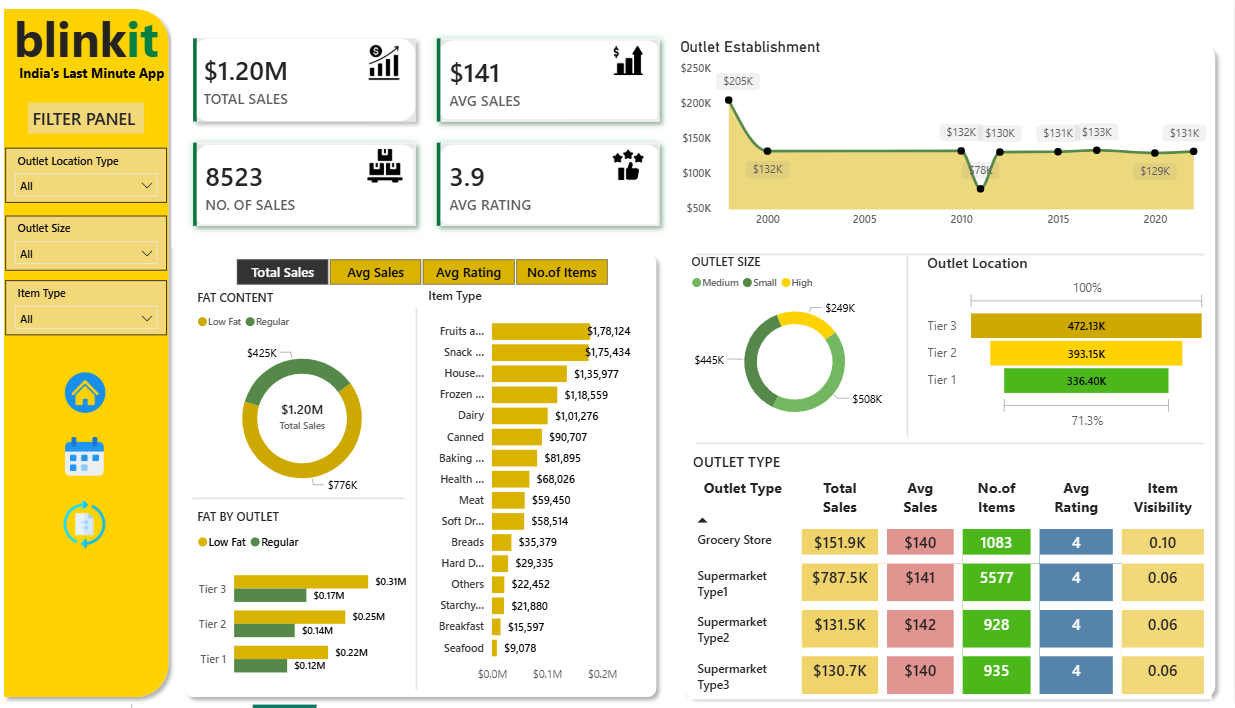

What the dashboard file says about the page in this screenshot:
{"tool":"powerbi","page":{"name":"Blinkit","canvas":[1400,800],"ordinal":0},"visuals":[{"type":"shape","box":[775.3,54.2,612.7,746.4],"z":0},{"type":"shape","box":[14.5,12.7,202.4,788],"z":1000},{"type":"textbox","box":[25.3,12.7,180.7,83.1],"z":2000},{"type":"textbox","box":[14.5,77.7,215.1,36.1],"z":3000},{"type":"cardVisual","fields":{"Data":["blinkit_data.Total Sales","blinkit_data.Avg Sales","blinkit_data.No.of Items","blinkit_data.Avg Rating"]},"box":[206,25.3,581.9,269.3],"z":4000},{"type":"image","box":[704.8,61.4,34.3,36.1],"z":5000},{"type":"image","box":[428.3,177.1,43.4,39.8],"z":6000},{"type":"image","box":[704.8,177.1,34.3,38],"z":7000},{"type":"image","box":[428.3,61.4,41.6,39.8],"z":8000},{"type":"shape","box":[216.9,287.4,545.8,513.3],"z":9000},{"type":"slicer","fields":{"Values":["metric.metric"]},"box":[258.4,294.6,464.5,39.8],"z":10000},{"type":"donutChart","title":"FAT CONTENT","fields":{"Y":["blinkit_data.Total Sales"],"Category":["blinkit_data.Item Fat Content"]},"box":[234.9,334.3,244,245.8],"z":11000},{"type":"cardVisual","fields":{"Data":["blinkit_data.Total Sales"]},"box":[296.4,437.4,122.9,79.5],"z":12000},{"type":"clusteredBarChart","title":"FAT BY OUTLET","fields":{"Y":["blinkit_data.Total Sales"],"Category":["blinkit_data.Outlet Location Type"],"Series":["blinkit_data.Item Fat Content"]},"box":[234.9,580.1,244,206],"z":13000},{"type":"shape","box":[234.9,558.4,236.8,21.7],"z":14000},{"type":"shape","box":[1028.3,298.2,12.7,202.4],"z":15000},{"type":"barChart","title":"Item Type","fields":{"Y":["blinkit_data.Total Sales"],"Category":["blinkit_data.Item Type"]},"box":[493.4,332.5,253,451.8],"z":16000},{"type":"lineChart","title":"Outlet Establishment","fields":{"Category":["blinkit_data.Outlet Establishment Year"],"Y":["blinkit_data.Total Sales"]},"box":[775.3,54.2,598.2,220.5],"z":17000},{"type":"shape","box":[798.8,498.8,567.5,18.1],"z":18000},{"type":"donutChart","title":"OUTLET SIZE","fields":{"Y":["blinkit_data.Total Sales"],"Category":["blinkit_data.Outlet Size"]},"box":[788,294.6,240.4,202.4],"z":19000},{"type":"shape","box":[478.9,356,12.7,428.3],"z":20000},{"type":"funnel","title":"Outlet Location","fields":{"Category":["blinkit_data.Outlet Location Type"],"Y":["Sum(blinkit_data.Sales)"]},"box":[1051.8,294.6,321.7,202.4],"z":21000},{"type":"pivotTable","title":"OUTLET TYPE","fields":{"Rows":["blinkit_data.Outlet Type"],"Values":["blinkit_data.Total Sales","blinkit_data.Avg Sales","blinkit_data.No.of Items","blinkit_data.Avg Rating","Avg(blinkit_data.Item Visibility)"]},"box":[789.8,516.9,585.6,277],"z":22000},{"type":"shape","box":[798,286.5,567.5,18.1],"z":23000},{"type":"slicer","fields":{"Values":["blinkit_data.Outlet Location Type"]},"box":[25.3,177.1,180.7,61.4],"z":24000},{"type":"slicer","fields":{"Values":["blinkit_data.Outlet Size"]},"box":[25.3,253,180.7,61.4],"z":25000},{"type":"slicer","fields":{"Values":["blinkit_data.Item Type"]},"box":[25.3,325.3,180.7,61.4],"z":26000},{"type":"textbox","box":[50.6,126.5,130.1,34.3],"z":27000},{"type":"image","box":[88.6,428.3,52.4,45.2],"z":28000},{"type":"image","box":[86.7,500.6,54.2,43.4],"z":29000},{"type":"image","box":[86.7,571.1,54.2,54.2],"z":30000}]}

Visuals, with their boxes in screenshot pixels (x1, y1, x2, y2), scaled from the page's 1400x800 canvas onto the 1235x708 screenshot:
shape: <bbox>684, 48, 1224, 707</bbox>
shape: <bbox>13, 11, 191, 707</bbox>
textbox: <bbox>22, 11, 182, 85</bbox>
textbox: <bbox>13, 69, 203, 101</bbox>
cardVisual - blinkit_data.Total Sales x blinkit_data.Avg Sales: <bbox>182, 22, 695, 261</bbox>
image: <bbox>622, 54, 652, 86</bbox>
image: <bbox>378, 157, 416, 192</bbox>
image: <bbox>622, 157, 652, 190</bbox>
image: <bbox>378, 54, 415, 90</bbox>
shape: <bbox>191, 254, 673, 707</bbox>
slicer - metric.metric: <bbox>228, 261, 638, 296</bbox>
"FAT CONTENT" donutChart: <bbox>207, 296, 422, 513</bbox>
cardVisual - blinkit_data.Total Sales: <bbox>261, 387, 370, 457</bbox>
"FAT BY OUTLET" clusteredBarChart: <bbox>207, 513, 422, 696</bbox>
shape: <bbox>207, 494, 416, 513</bbox>
shape: <bbox>907, 264, 918, 443</bbox>
"Item Type" barChart: <bbox>435, 294, 658, 694</bbox>
"Outlet Establishment" lineChart: <bbox>684, 48, 1212, 243</bbox>
shape: <bbox>705, 441, 1205, 457</bbox>
"OUTLET SIZE" donutChart: <bbox>695, 261, 907, 440</bbox>
shape: <bbox>422, 315, 434, 694</bbox>
"Outlet Location" funnel: <bbox>928, 261, 1212, 440</bbox>
"OUTLET TYPE" pivotTable: <bbox>697, 457, 1213, 703</bbox>
shape: <bbox>704, 254, 1205, 270</bbox>
slicer - blinkit_data.Outlet Location Type: <bbox>22, 157, 182, 211</bbox>
slicer - blinkit_data.Outlet Size: <bbox>22, 224, 182, 278</bbox>
slicer - blinkit_data.Item Type: <bbox>22, 288, 182, 342</bbox>
textbox: <bbox>45, 112, 159, 142</bbox>
image: <bbox>78, 379, 124, 419</bbox>
image: <bbox>76, 443, 124, 481</bbox>
image: <bbox>76, 505, 124, 553</bbox>
